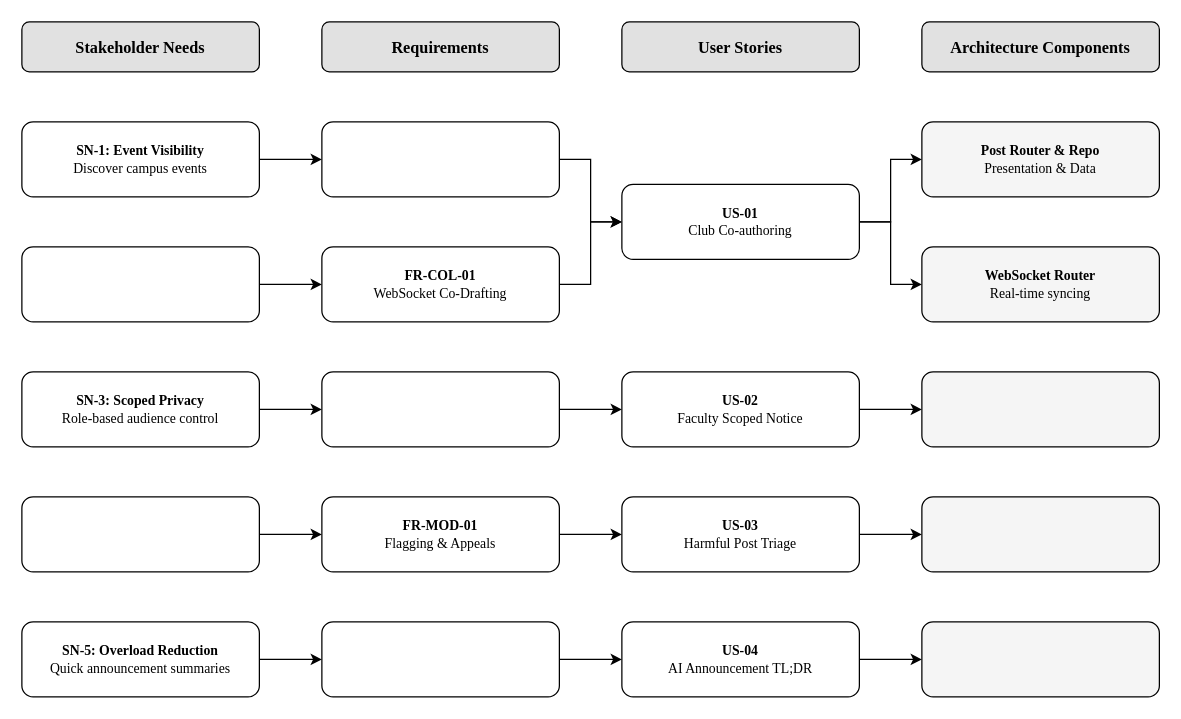
This 1181x719 diagram has some shape labels left out. The shapes that lost their labels are listed below. From the top down, each one's centre as x and y in pixels, then its label:
At (x=440, y=159): "FR-PUB-01 Rich-Text Publishing".
At (x=140, y=284): "SN-2: Co-authoring Collaborative post drafting".
At (x=440, y=409): "FR-AUD-01 Audience Scopes".
At (x=1040, y=409): "Audience Guard Auth Middleware".
At (x=140, y=534): "SN-4: Abuse Triage Enforce guidelines & appeals".
At (x=1040, y=534): "Moderation Service Queue & Appeals".
At (x=440, y=659): "FR-AI-01 PulseDigest Extractor".
At (x=1040, y=659): "PulseDigest AI Service Summarizer & Extractor".
